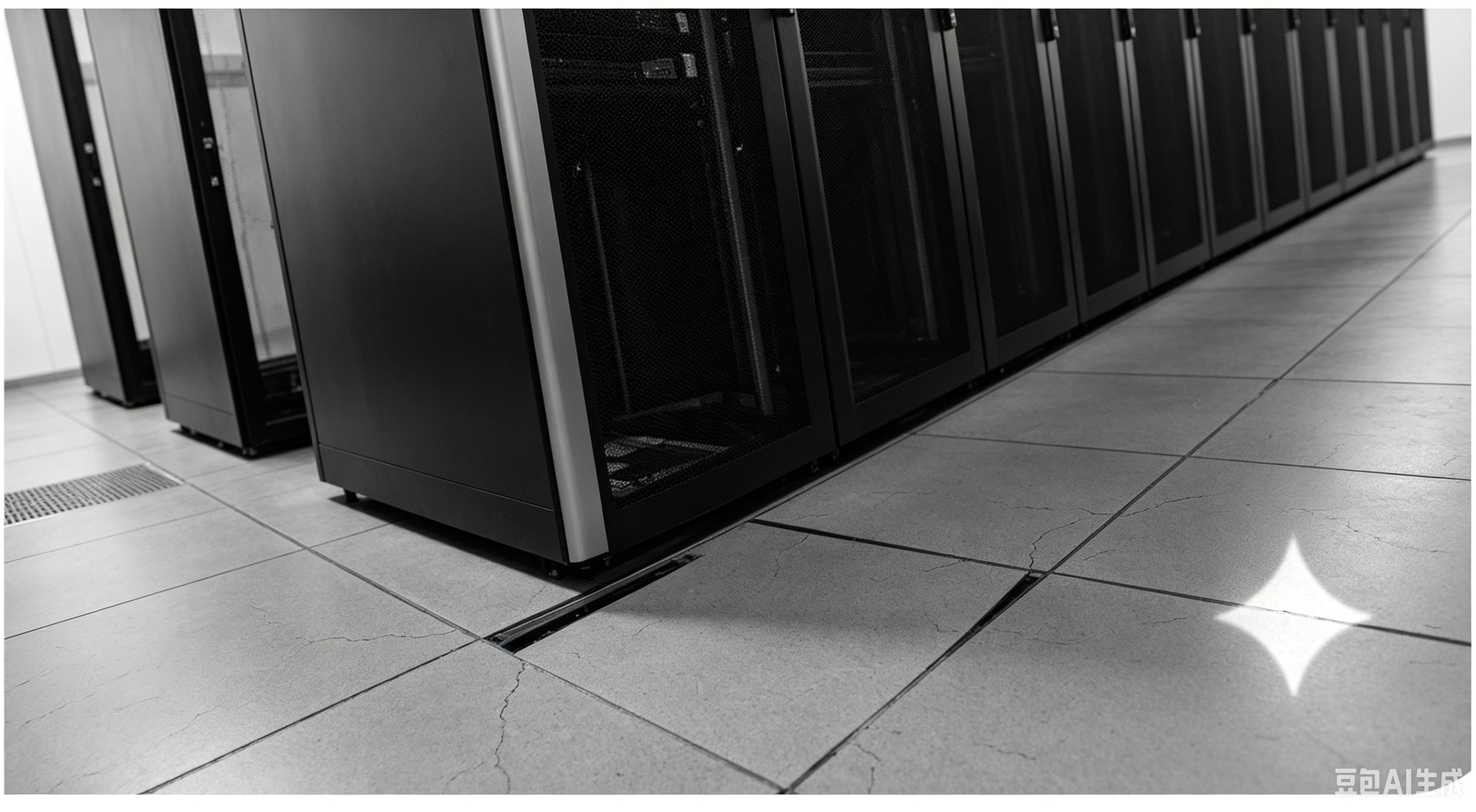floor_defect: (468, 530, 1060, 791), (275, 599, 472, 655)
